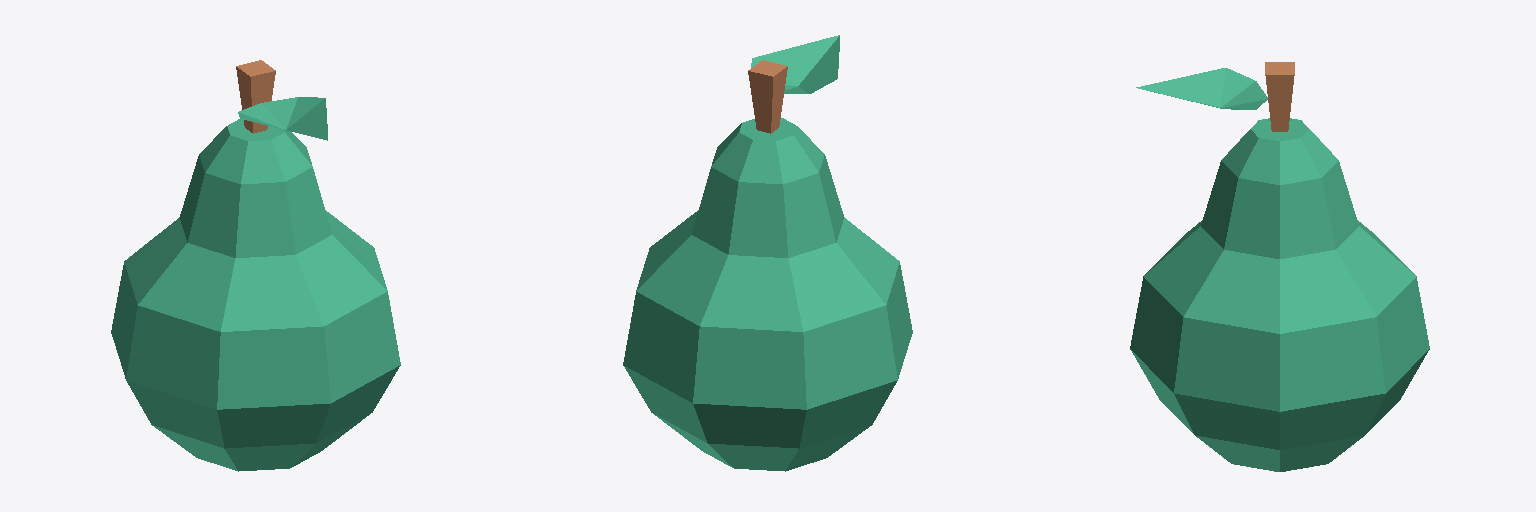
Rendered from pear.obj.
3 renders of one model, left to right at view 1: azimuth 30°, elevation 25°; view 2: azimuth 150°, elevation 25°; view 3: azimuth 270°, elevation 25°, orthographic.
Parts seen in each view (by area): view 1: pear; view 2: pear; view 3: pear.
Boxes of the visible parts, x1=… form: pear: x1=111, y1=60, x2=400, y2=471; pear: x1=623, y1=35, x2=912, y2=471; pear: x1=1130, y1=62, x2=1429, y2=471.
Size of the model in its own units: 0.1963 by 0.2708 by 0.1963.